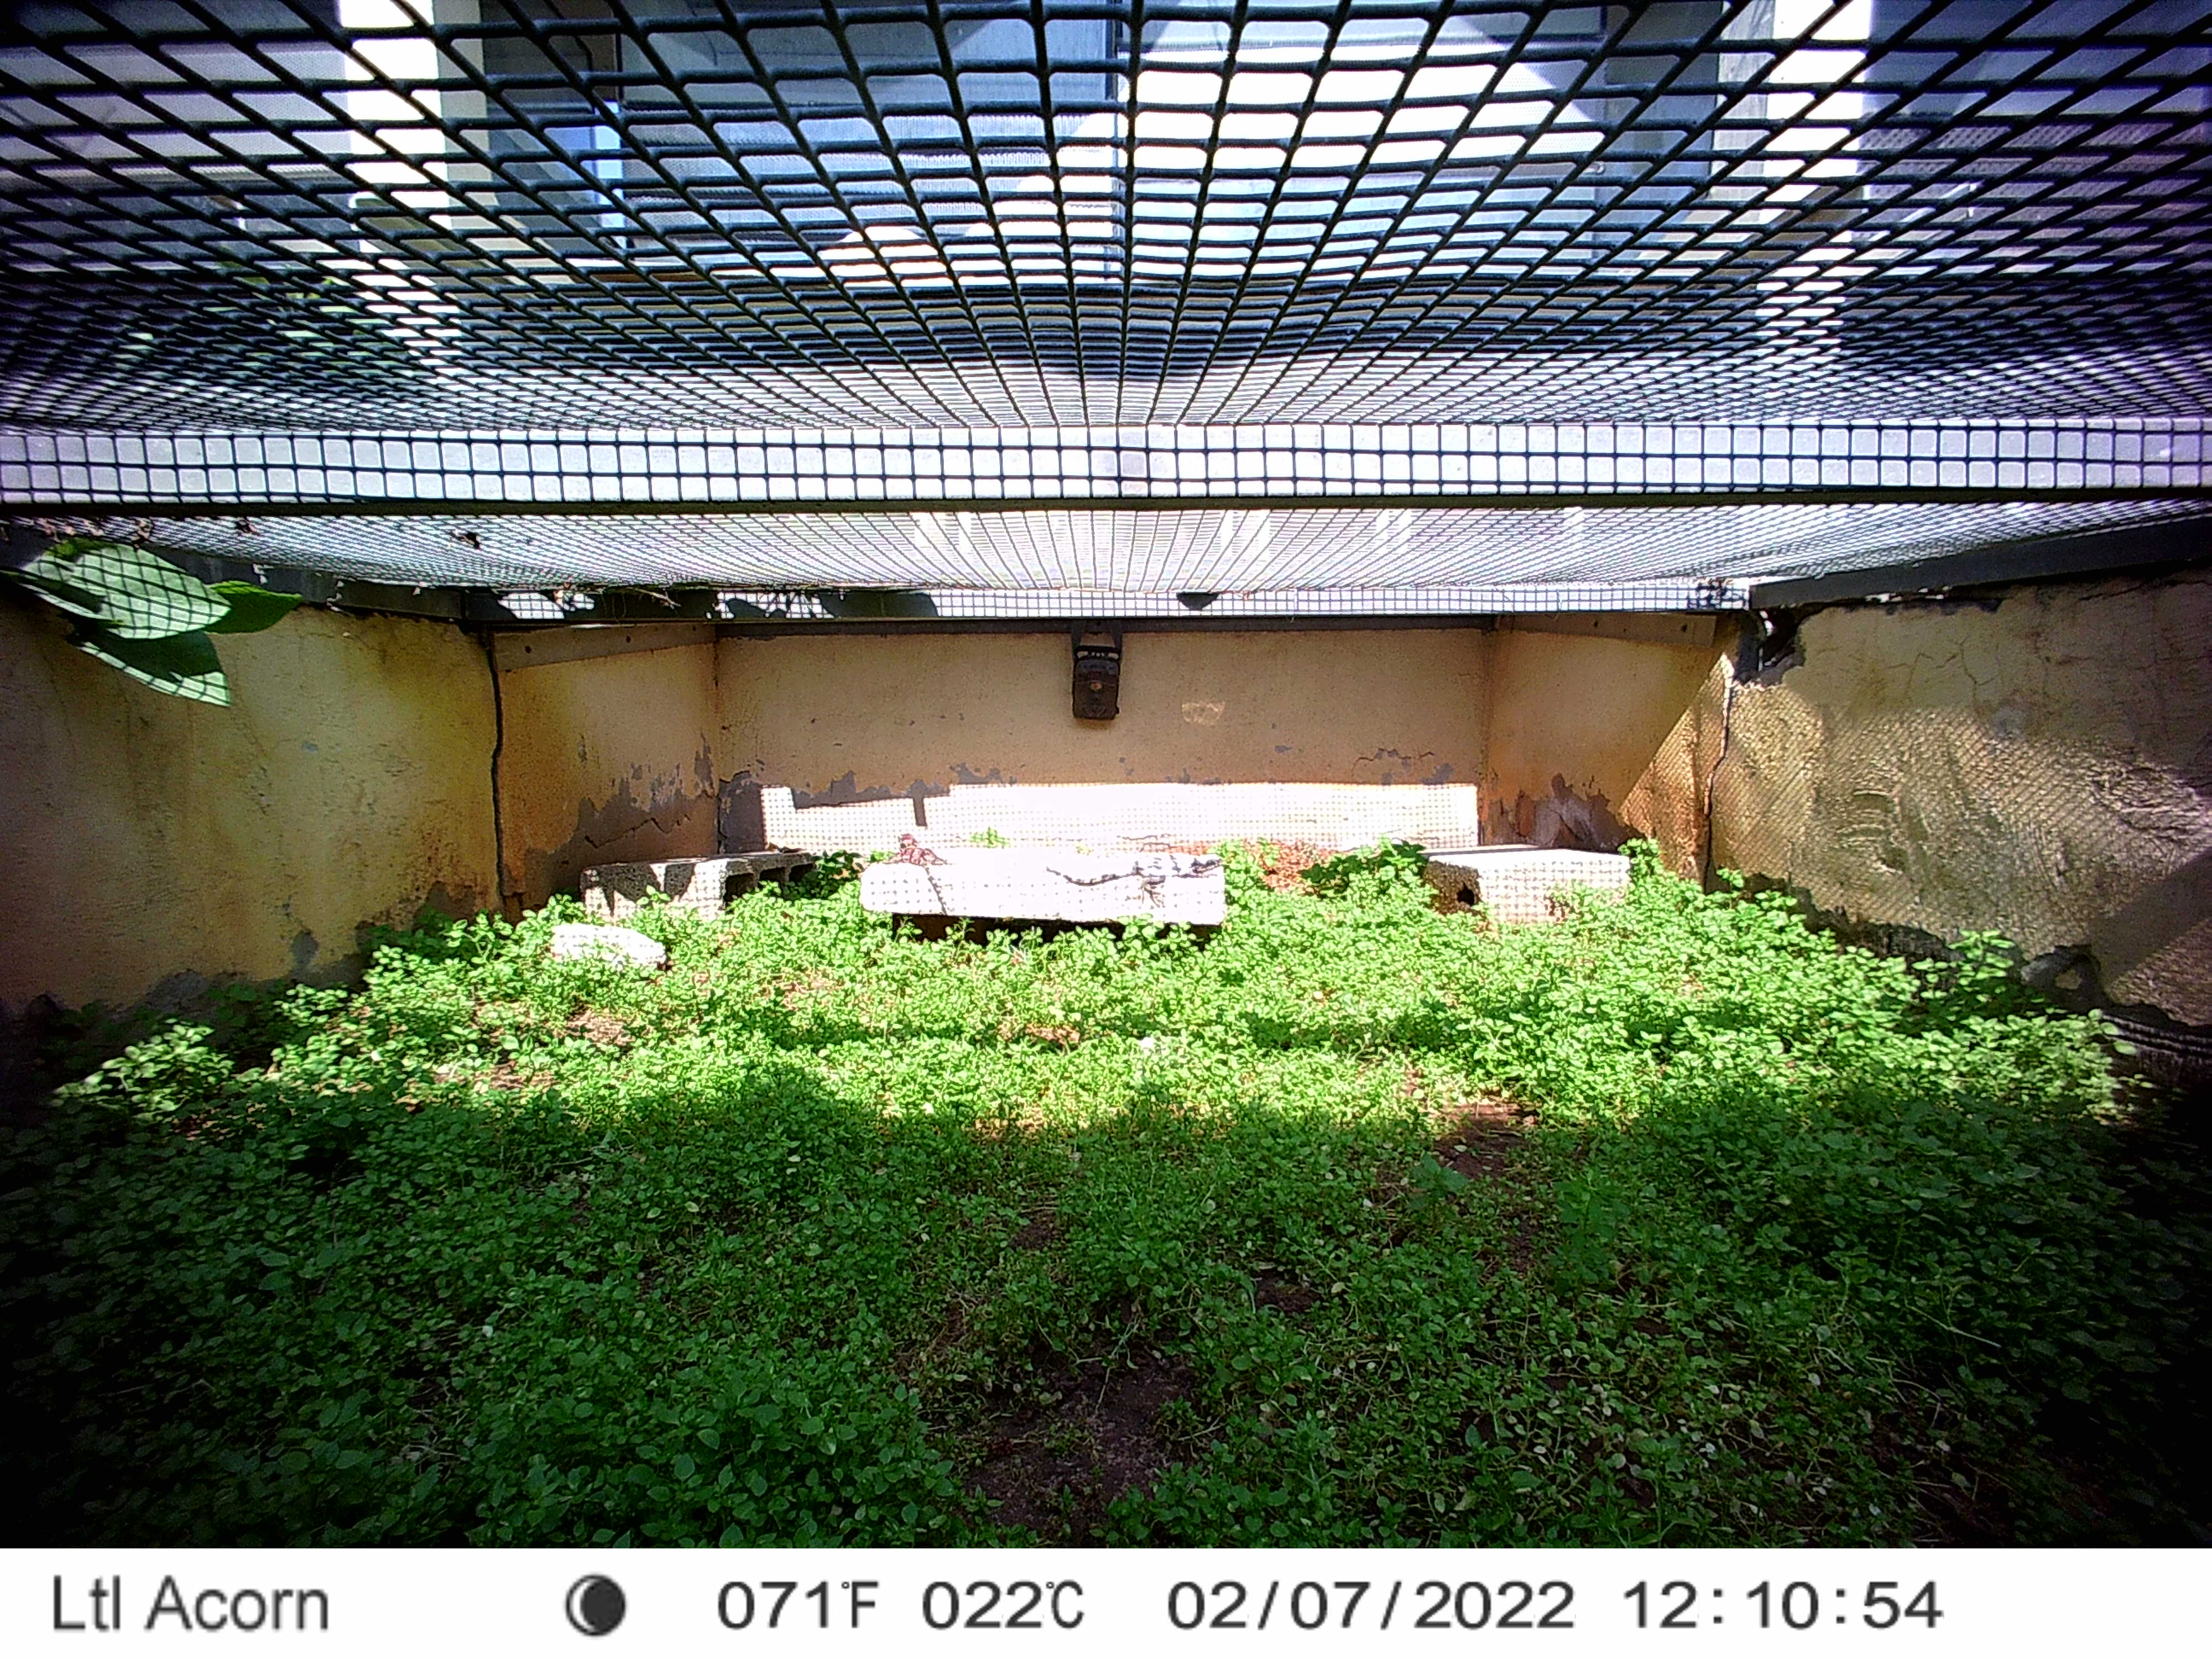lizard: (1042, 847, 1231, 911), (880, 831, 970, 927)
